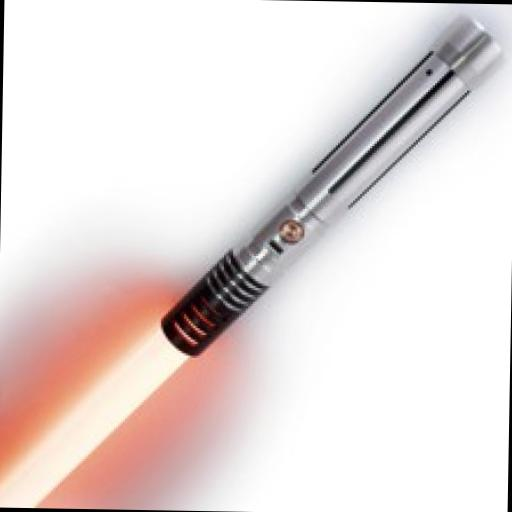sith saber: (0, 5, 508, 512)
